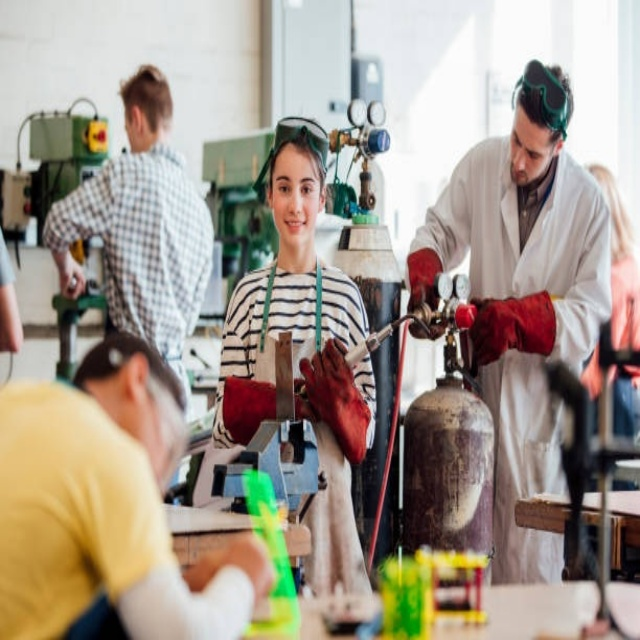Guantes: (298, 334, 373, 458), (462, 282, 561, 364), (405, 243, 447, 342)
Sin_gafas: (511, 122, 547, 165), (273, 169, 318, 201)
Sin_mascara: (279, 212, 307, 238), (509, 160, 529, 190)
